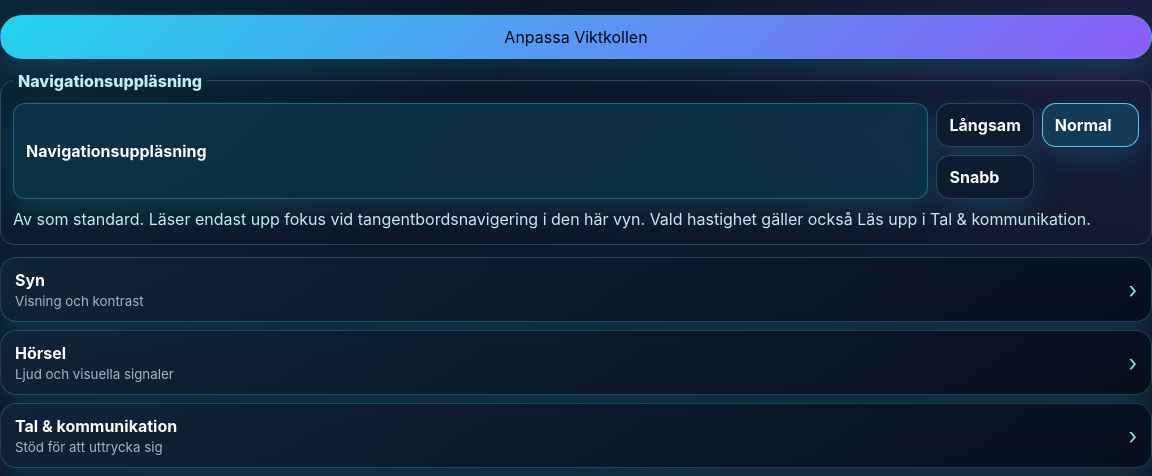
Test: AccessibilityCommunication AAC symbol tiles (A11Y-7D) › tired is a new phrase and works
Click the button "Tal & kommunikation Stöd för att uttrycka sig ›": (96, 426) [0,403,1151,468]
(page scrolled)
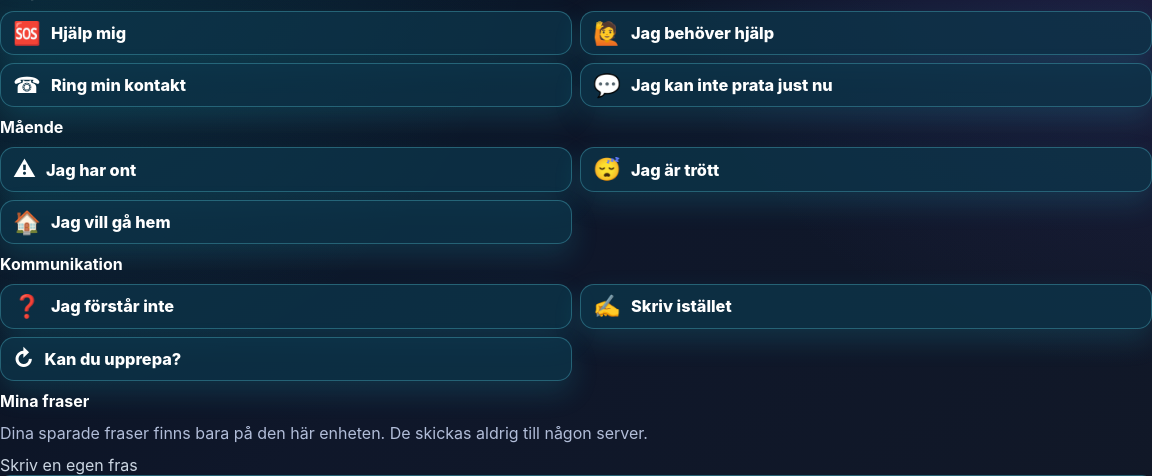
Click the button "😴 Jag är trött": (675, 170) [580,148,1151,192]
(page scrolled)
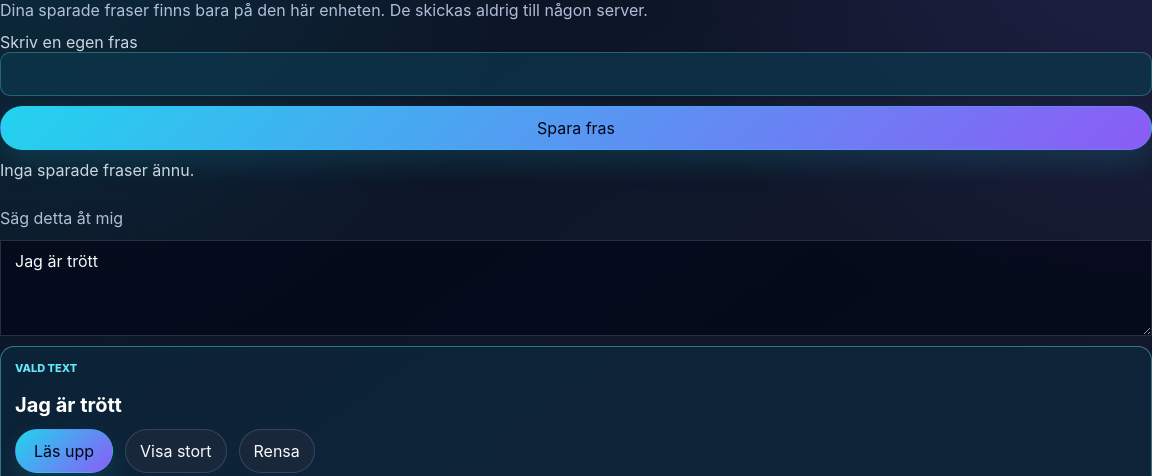
Now the text box labelled "Säg detta åt mig" holds "Jag är trött", box [0,240,1151,336]
